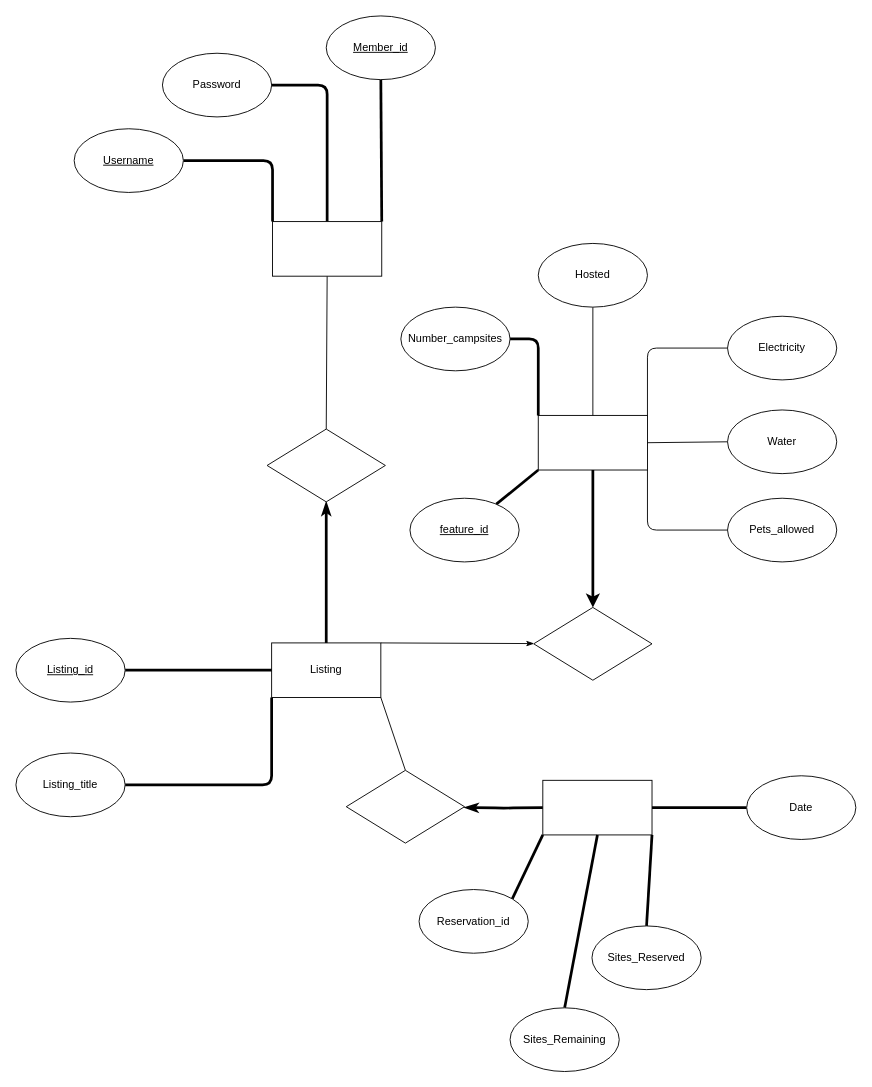
The diagram is 872 pixels wide and 1087 high, and some of its shapes have lost their labels. Here are the shapes that lost their labels. From the top down, the centre of each, then its label:
the point at 327,248: Member
the point at 592,442: Feature
the point at 325,465: posts
the point at 592,643: includes
the point at 405,806: reserved_on
the point at 597,807: Reservations
